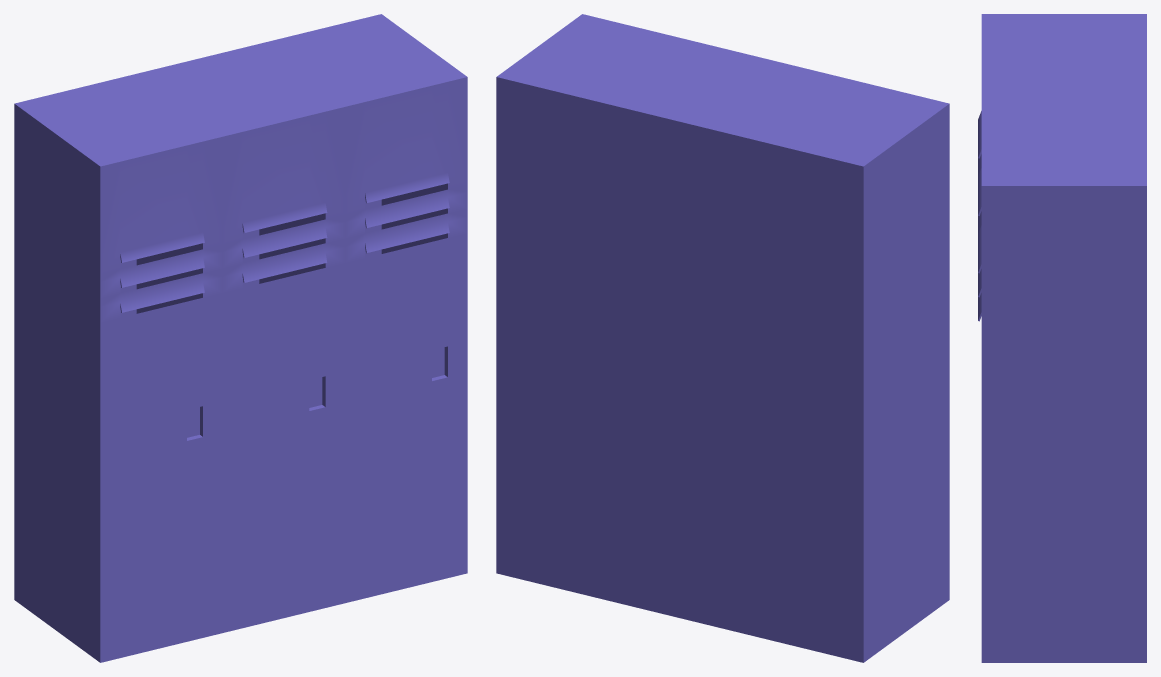
File: LockerModel_Blue_TRIPLE.fbx
The picture shows the model from 3 angles, left to right: view 1: azimuth 30°, elevation 25°; view 2: azimuth 150°, elevation 25°; view 3: azimuth 270°, elevation 25°; orthographic projection. The views are drawn at different scales.
Parts seen in each view (by area): view 1: polySurface5, polySurface3, polySurface1; view 2: polySurface5, polySurface3, polySurface1; view 3: polySurface1, polySurface3, polySurface5.
Boxes of the visible parts, bbox=[...] form: polySurface5: bbox=[14, 73, 222, 662]; polySurface3: bbox=[136, 44, 345, 632]; polySurface1: bbox=[259, 14, 467, 602]; polySurface5: bbox=[741, 73, 949, 662]; polySurface3: bbox=[618, 44, 826, 632]; polySurface1: bbox=[496, 14, 704, 602]; polySurface1: bbox=[978, 128, 1146, 662]; polySurface3: bbox=[978, 71, 1146, 233]; polySurface5: bbox=[978, 14, 1146, 176].
Bounding box in the file's own units: 4.64 × 6 × 1.92.
